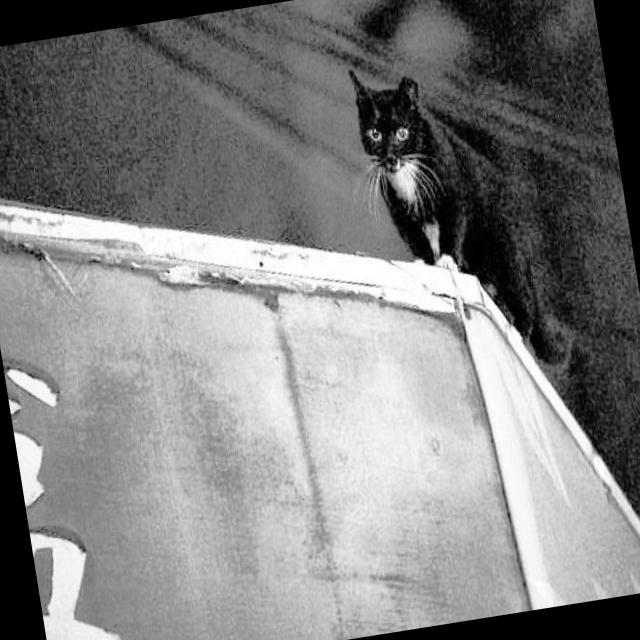Cat: (348, 46, 570, 393)
